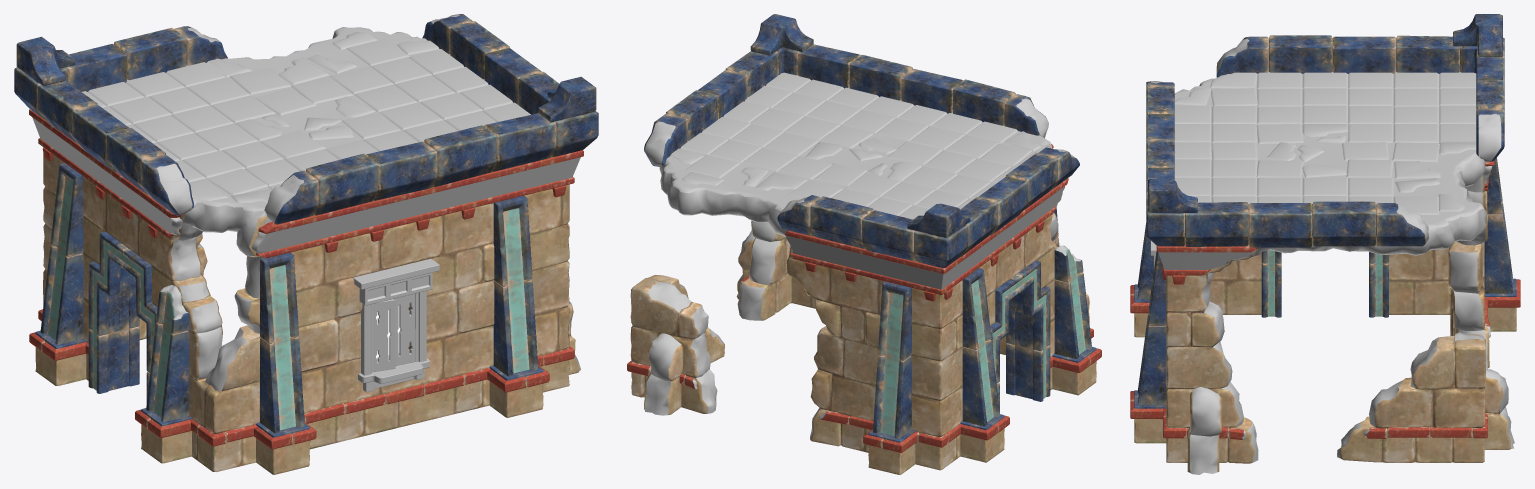
3 views of the same model, side by side, from view 1: azimuth 30°, elevation 25°; view 2: azimuth 150°, elevation 25°; view 3: azimuth 270°, elevation 25° (orthographic). The views are drawn at different scales.
Visible parts, largest first — view 1: SM_Menaphite_Ruins_03_LOD0; view 2: SM_Menaphite_Ruins_03_LOD0; view 3: SM_Menaphite_Ruins_03_LOD0.
Part boxes in pixels (x1=…): SM_Menaphite_Ruins_03_LOD0: x1=14, y1=14, x2=598, y2=474; SM_Menaphite_Ruins_03_LOD0: x1=627, y1=14, x2=1101, y2=474; SM_Menaphite_Ruins_03_LOD0: x1=1130, y1=14, x2=1520, y2=474.
Bounding box in the file's own units: 14.03 × 9.72 × 12.27.
